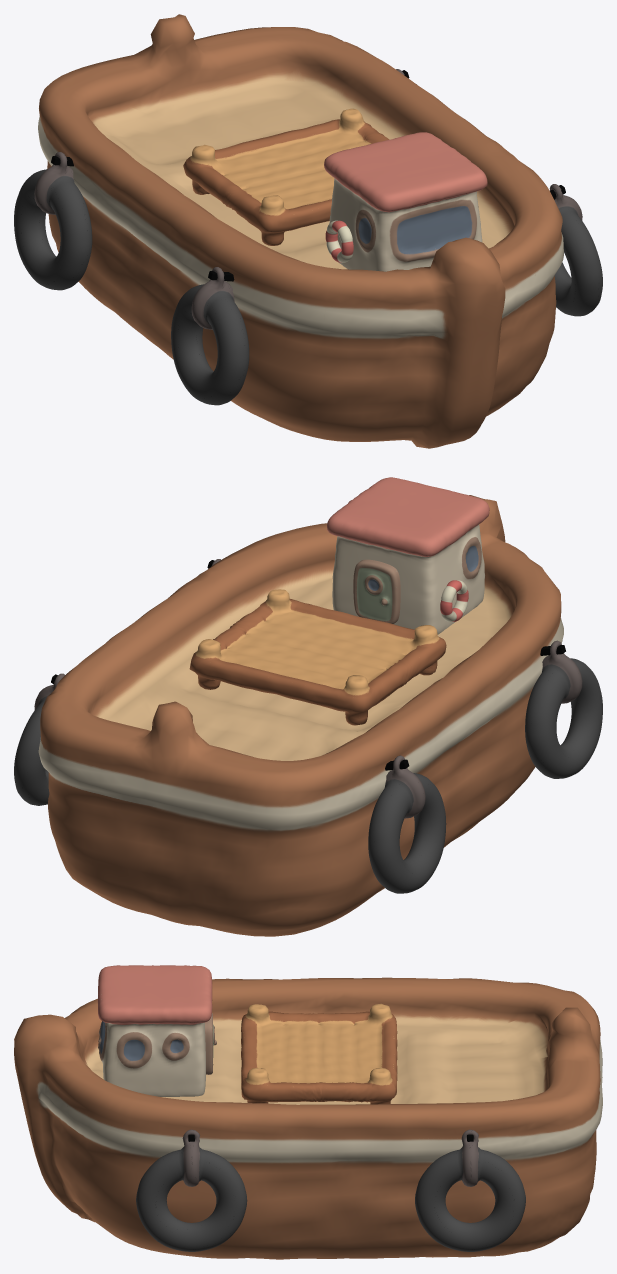
Rendered from SHIP.fbx.
The picture shows the model from 3 angles, top to bottom: view 1: azimuth 30°, elevation 25°; view 2: azimuth 150°, elevation 25°; view 3: azimuth 270°, elevation 25°; orthographic projection. The views are drawn at different scales.
Visible parts, largest first — view 1: SHIP_BASE.LOW, CABIN_LOW, STORAGE_LOW, WHEEL_LOW.003, WHEEL_LOW.002, WHEEL_LOW, CANYELEK_LOW; view 2: SHIP_BASE.LOW, STORAGE_LOW, CABIN_LOW, WHEEL_LOW.002, WHEEL_LOW.003, DOOR_LOW, WHEEL_LOW.001, CANYELEK_LOW; view 3: SHIP_BASE.LOW, STORAGE_LOW, CABIN_LOW, WHEEL_LOW, WHEEL_LOW.001, DOOR_LOW.
Part boxes in pixels (box(x1,y1,x2,y2)): SHIP_BASE.LOW: box(38, 14, 563, 448); CABIN_LOW: box(324, 132, 487, 271); STORAGE_LOW: box(183, 108, 389, 245); WHEEL_LOW.003: box(171, 267, 249, 405); WHEEL_LOW.002: box(14, 152, 92, 290); WHEEL_LOW: box(549, 184, 602, 316); CANYELEK_LOW: box(325, 220, 353, 262); SHIP_BASE.LOW: box(38, 495, 563, 936); STORAGE_LOW: box(189, 589, 446, 725); CABIN_LOW: box(327, 477, 489, 634); WHEEL_LOW.002: box(368, 755, 446, 893); WHEEL_LOW.003: box(525, 640, 602, 778); DOOR_LOW: box(353, 559, 400, 623); WHEEL_LOW.001: box(14, 673, 64, 805); CANYELEK_LOW: box(440, 580, 468, 621); SHIP_BASE.LOW: box(14, 977, 602, 1259); STORAGE_LOW: box(241, 1003, 397, 1104); CABIN_LOW: box(97, 965, 212, 1096); WHEEL_LOW: box(136, 1129, 247, 1251); WHEEL_LOW.001: box(415, 1129, 525, 1251); DOOR_LOW: box(205, 1013, 216, 1074).
Bounding box in the file's own units: 3.16 × 1.99 × 4.66.
